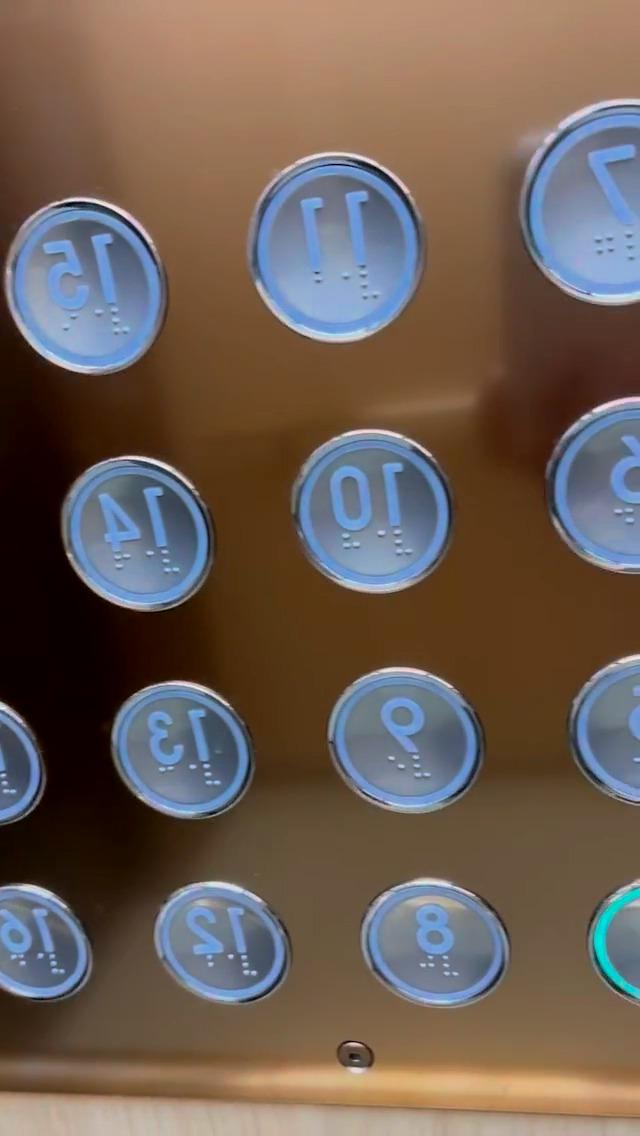button: (6, 186, 204, 376), (281, 416, 456, 604), (264, 153, 437, 337), (64, 466, 221, 619), (97, 674, 256, 823), (331, 677, 497, 819), (367, 876, 519, 1016), (539, 97, 640, 294), (154, 881, 286, 1004), (0, 877, 93, 1004)
